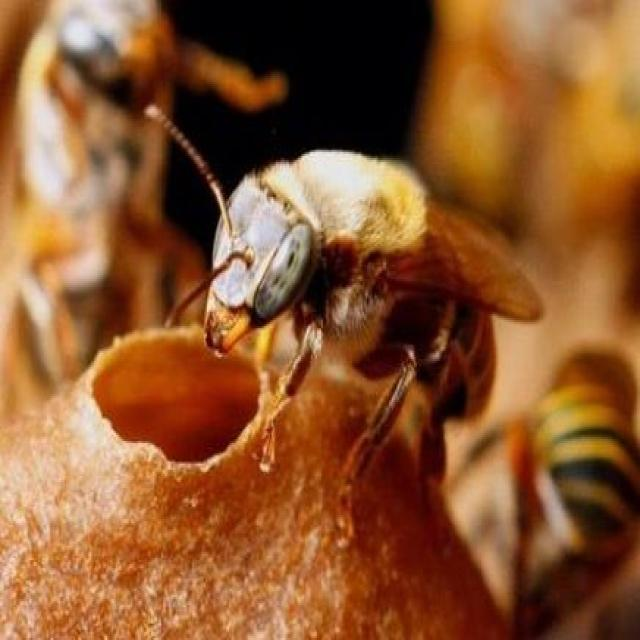Meliponula: (134, 94, 506, 533), (0, 2, 240, 376), (515, 285, 640, 613)
